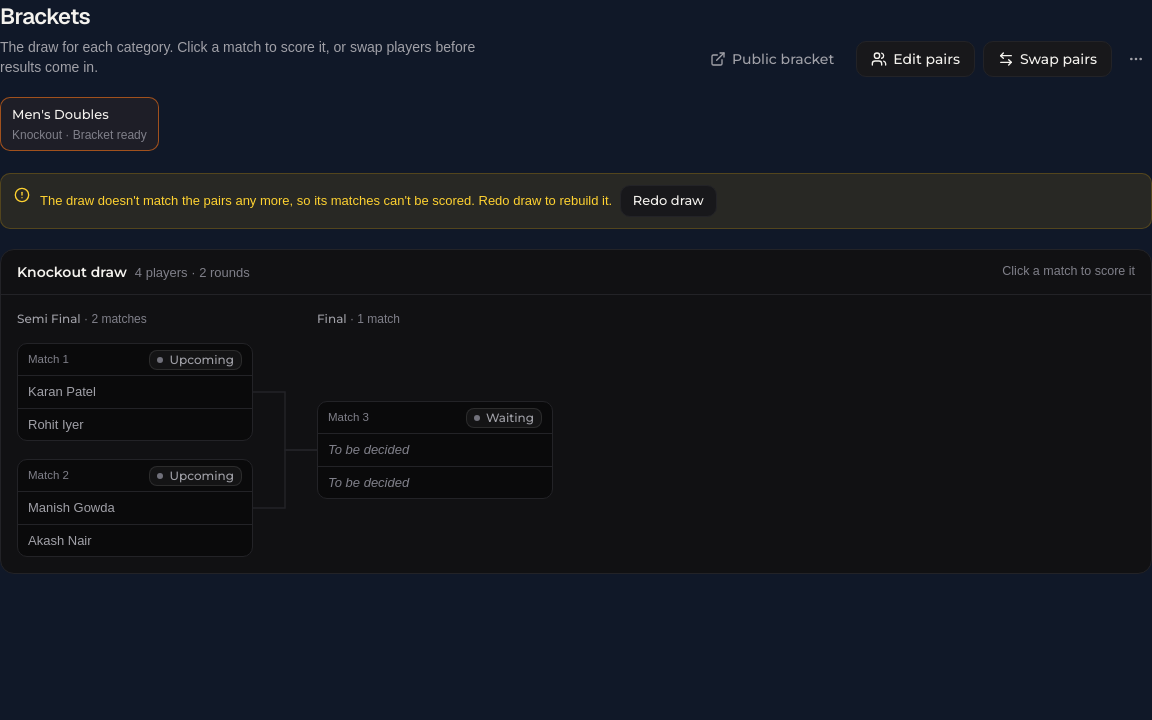
Test: BracketManagementSection, doubles after the draw › says so when the pairs no longer match the draw, with its own Redo draw
The image size is (1152, 720).
Click the button "Redo draw" at [668, 200], box [620,184,717,216]
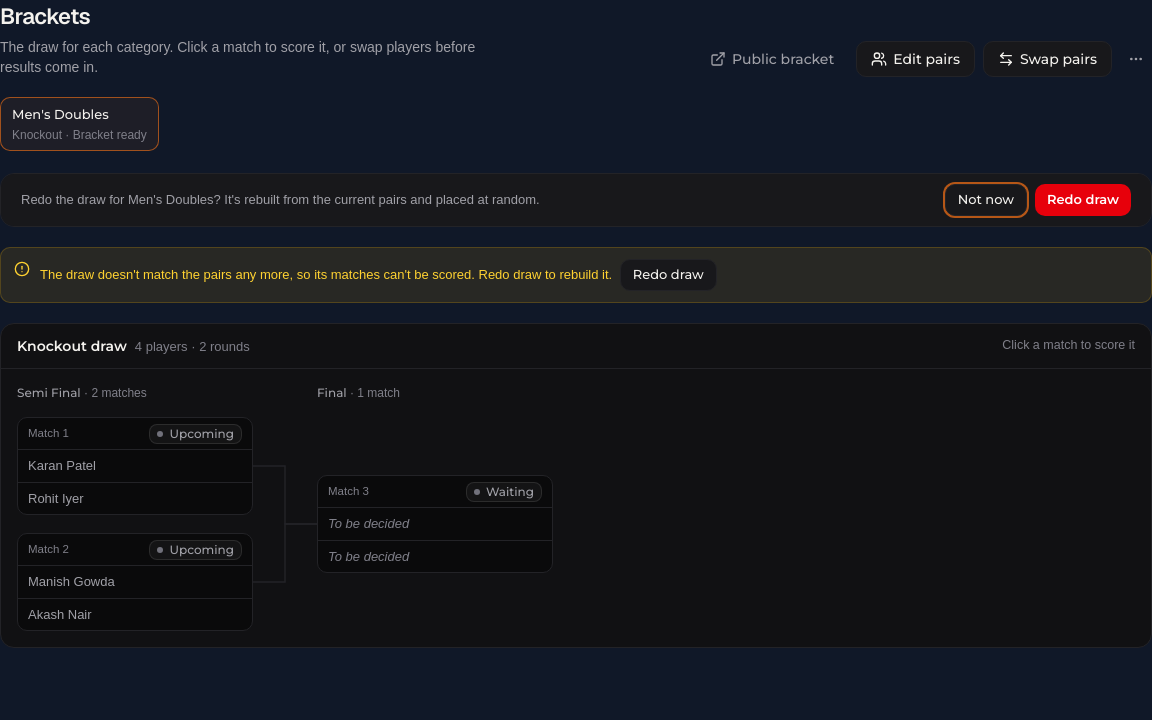
Check: the dialog named "Redo draw" is shown, box [1,174,1151,226]
